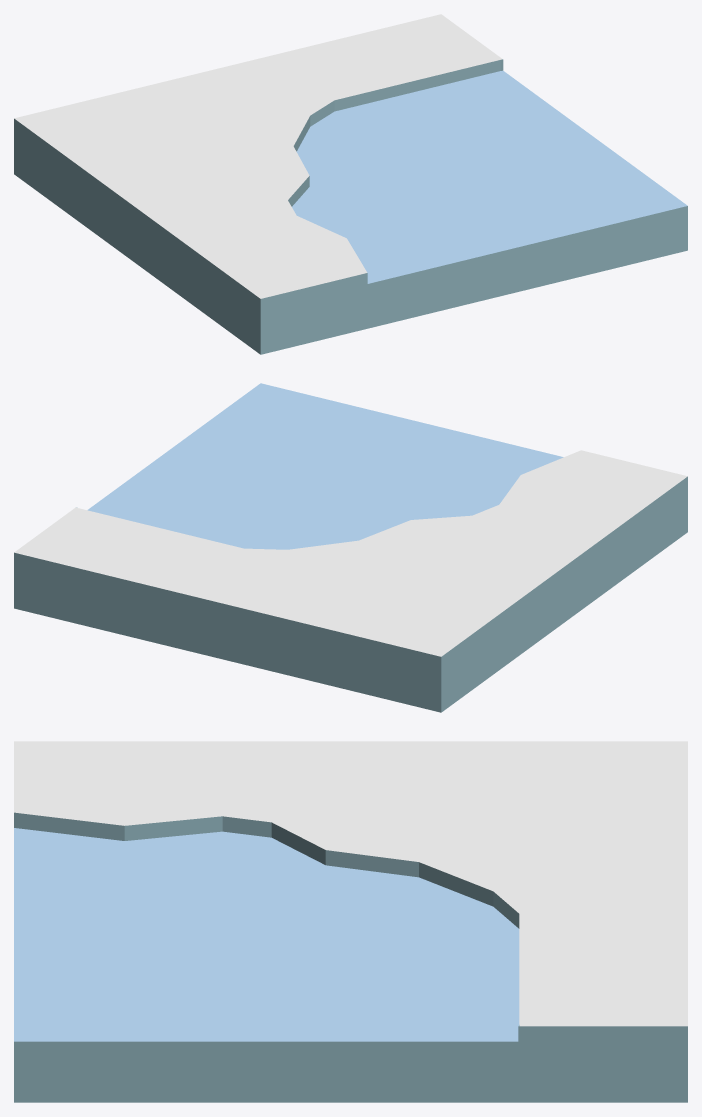
File: Terrain_Tile_Ice_Snow_Water_Bank_Corner_02.fbx
3 renders of one model, top to bottom at view 1: azimuth 30°, elevation 25°; view 2: azimuth 150°, elevation 25°; view 3: azimuth 270°, elevation 25°, orthographic. The views are drawn at different scales.
Parts seen in each view (by area): view 1: Model; view 2: Model; view 3: Model.
Part boxes in pixels (left/top/right/bottom): Model: left=14, top=14, right=687, bottom=354; Model: left=14, top=383, right=687, bottom=712; Model: left=14, top=741, right=687, bottom=1102.
Bounding box in the file's own units: 2000 × 250 × 2000.
